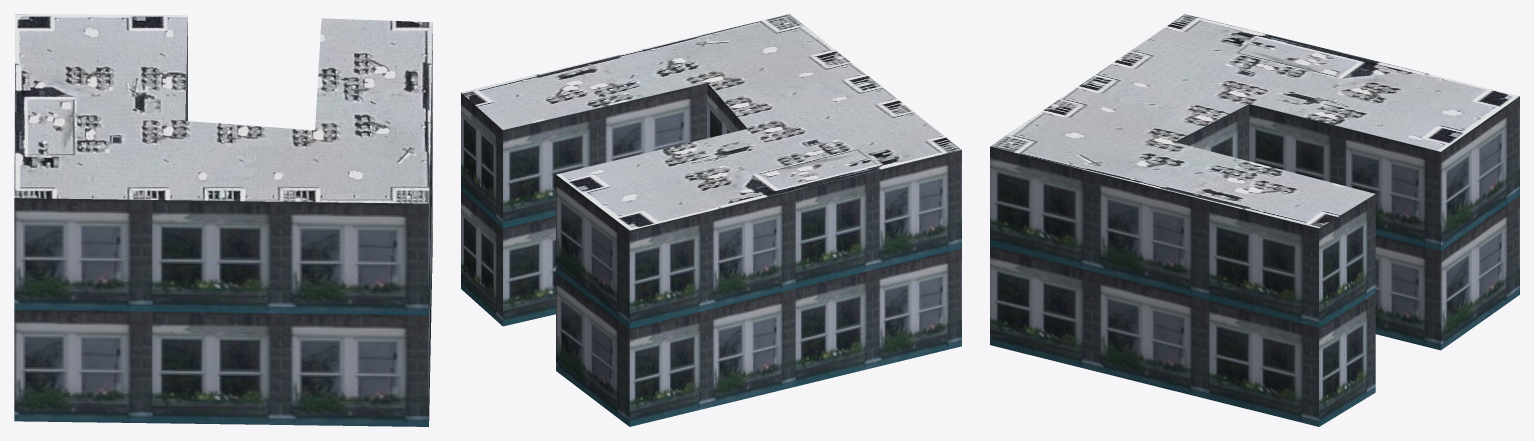
The model's file is ResTex__137.fbx.
The picture shows the model from 3 angles, left to right: view 1: azimuth 30°, elevation 25°; view 2: azimuth 150°, elevation 25°; view 3: azimuth 270°, elevation 25°; orthographic projection. The views are drawn at different scales.
Parts seen in each view (by area): view 1: CityEngineMaterial_11_m, CityEngineMaterial_m; view 2: CityEngineMaterial_11_m, CityEngineMaterial_m; view 3: CityEngineMaterial_11_m, CityEngineMaterial_m.
Part boxes in pixels (<box>): CityEngineMaterial_11_m: <box>14,22,432,426</box>; CityEngineMaterial_m: <box>14,14,432,203</box>; CityEngineMaterial_11_m: <box>461,83,961,426</box>; CityEngineMaterial_m: <box>461,14,961,230</box>; CityEngineMaterial_11_m: <box>990,96,1519,426</box>; CityEngineMaterial_m: <box>990,14,1519,228</box>.
Bounding box in the file's own units: 13.89 × 6 × 14.51.
2 materials, 2 textured.
